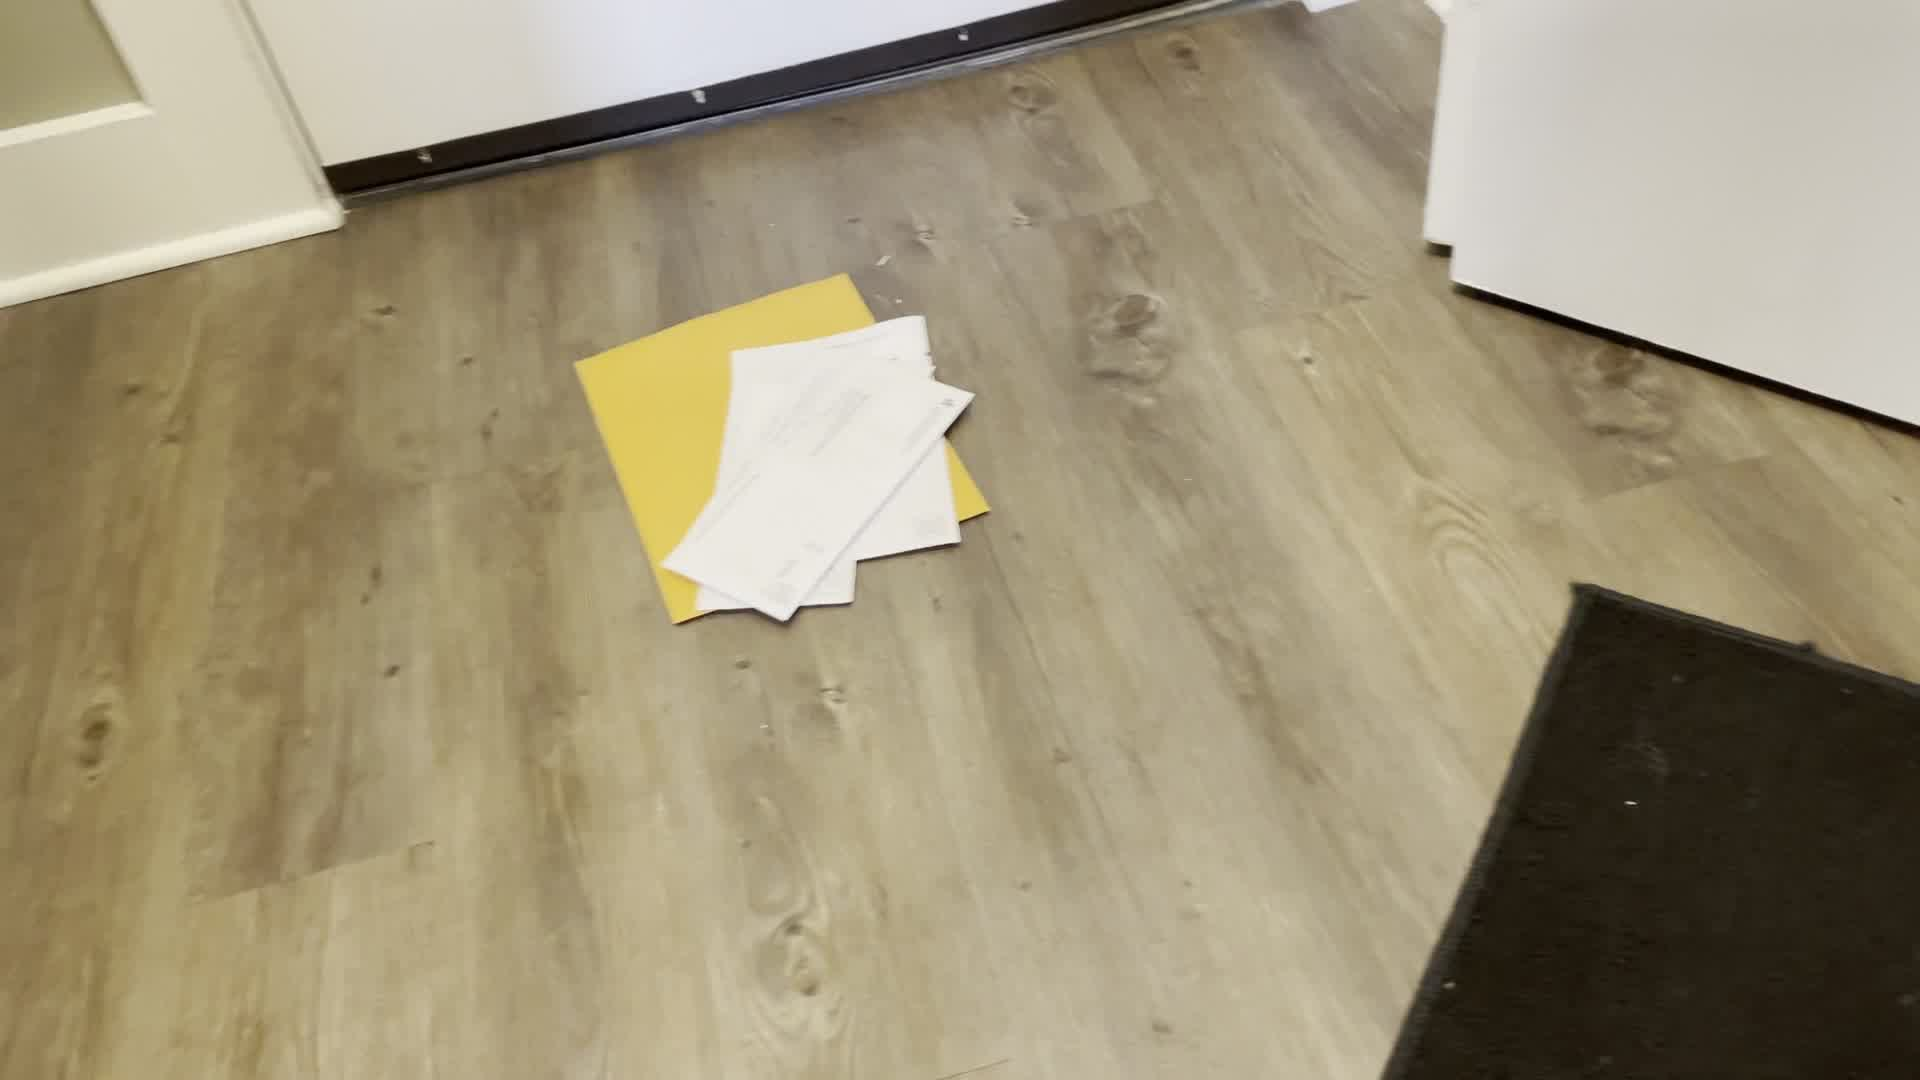envelope: (564, 258, 997, 636), (661, 299, 963, 615)
